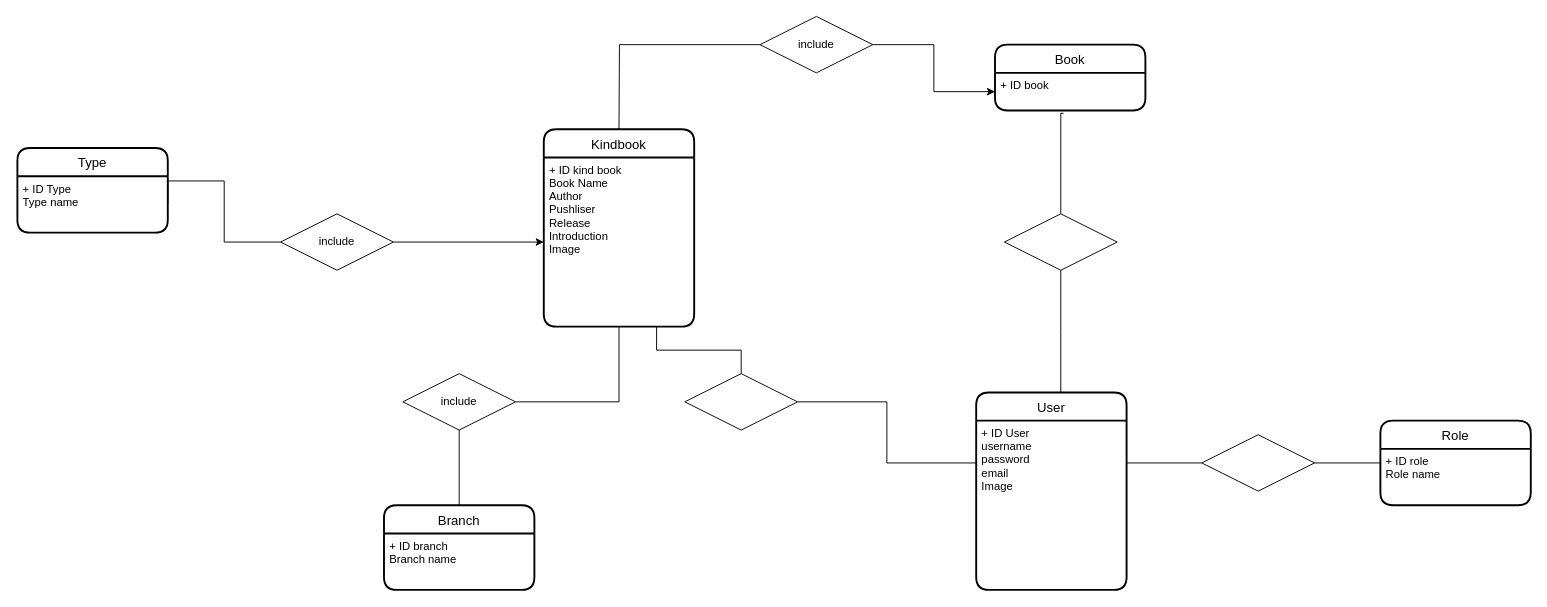
The diagram is 1547 pixels wide and 607 high, and some of its shapes have lost their labels. Here are the shapes that lost their labels. From the top down, the box of each, then its label:
(1003, 213, 1117, 270): Borrow
(684, 373, 798, 430): Rating
(1201, 434, 1315, 491): Permit
